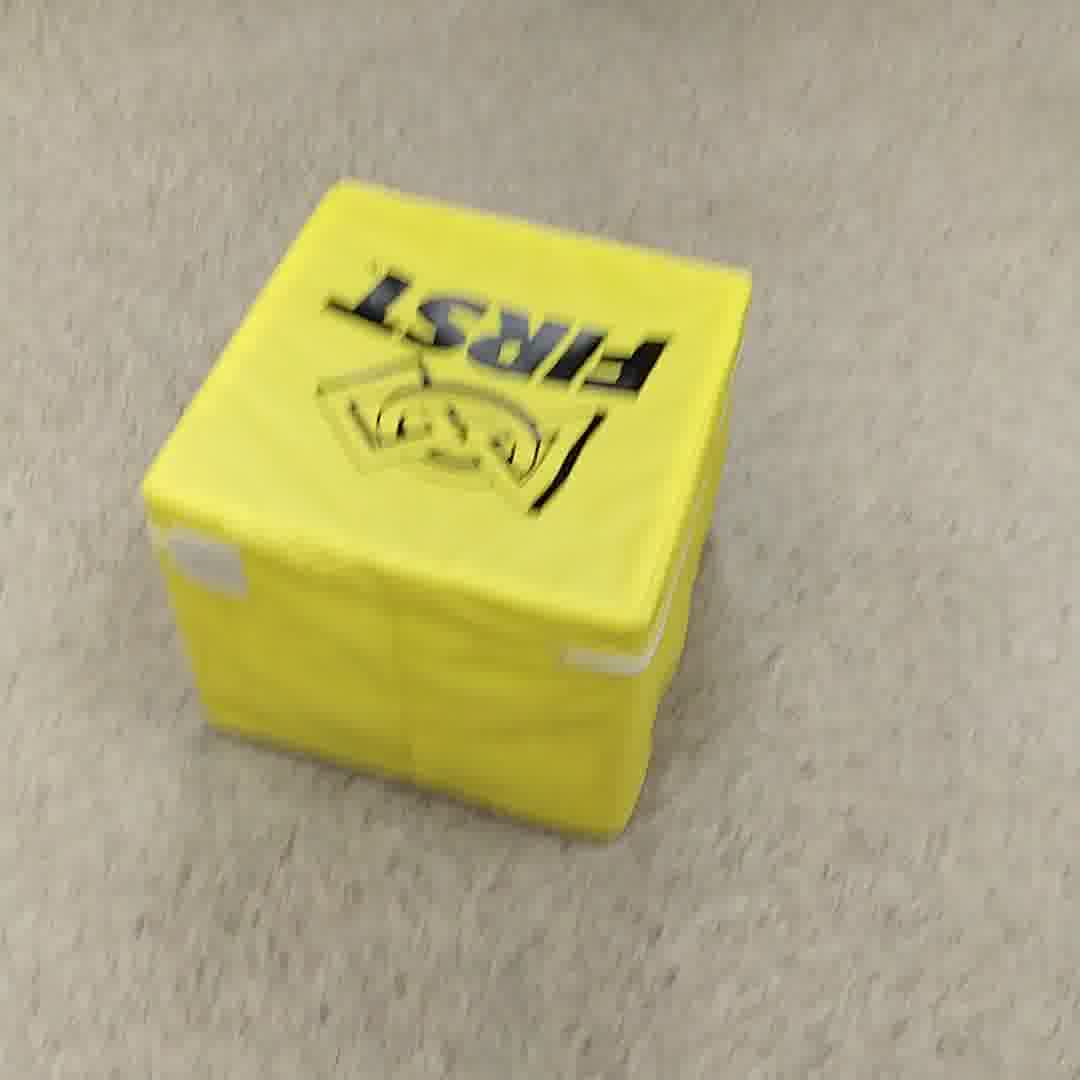box: (121, 168, 771, 852)
